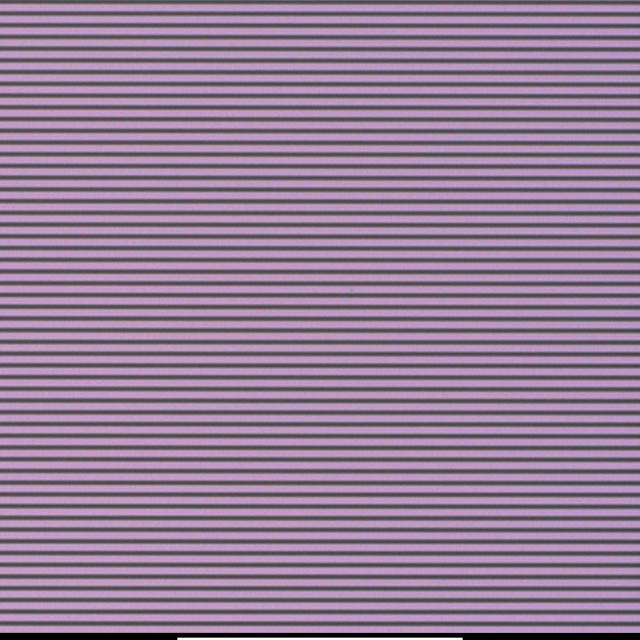nonvisual: (347, 285, 356, 296)
